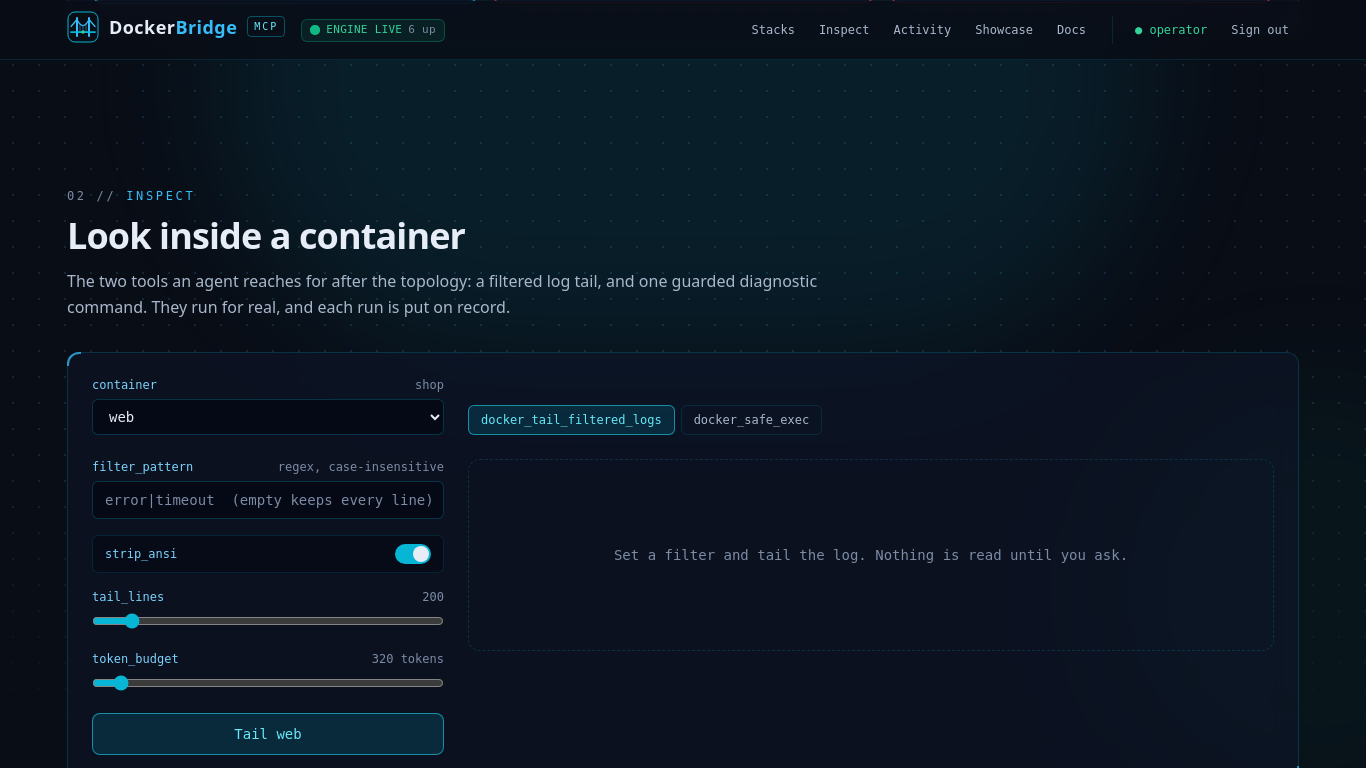
Scenario: running a command › shows the policy's refusal, with the rule that applied
The image size is (1366, 768).
(page scrolled)
Check: the dropdown labelled "container shop" is shown, box left=92, top=399, right=444, bottom=435
Click the tab "docker_safe_exec" at (751, 420), box left=681, top=405, right=822, bottom=435
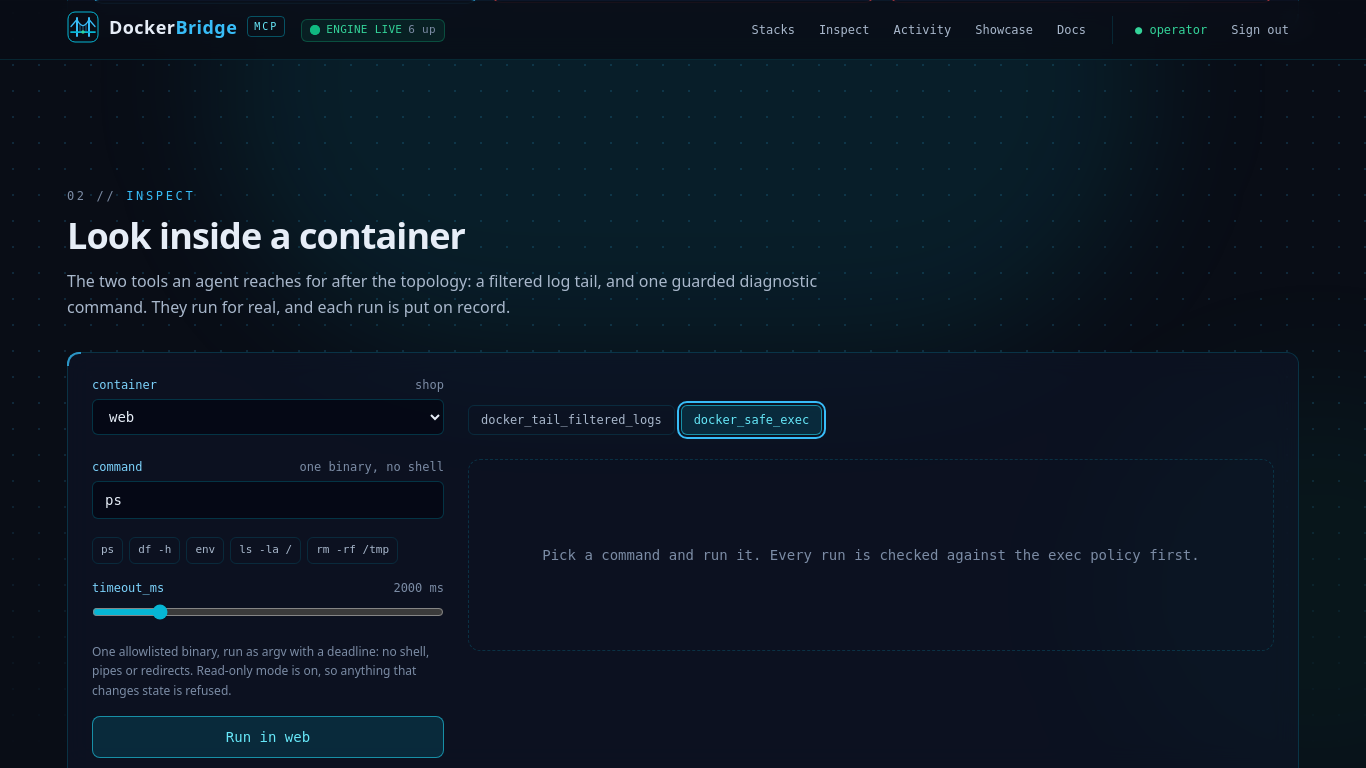
Click the button "rm -rf /tmp" at (353, 550), box left=307, top=537, right=398, bottom=564
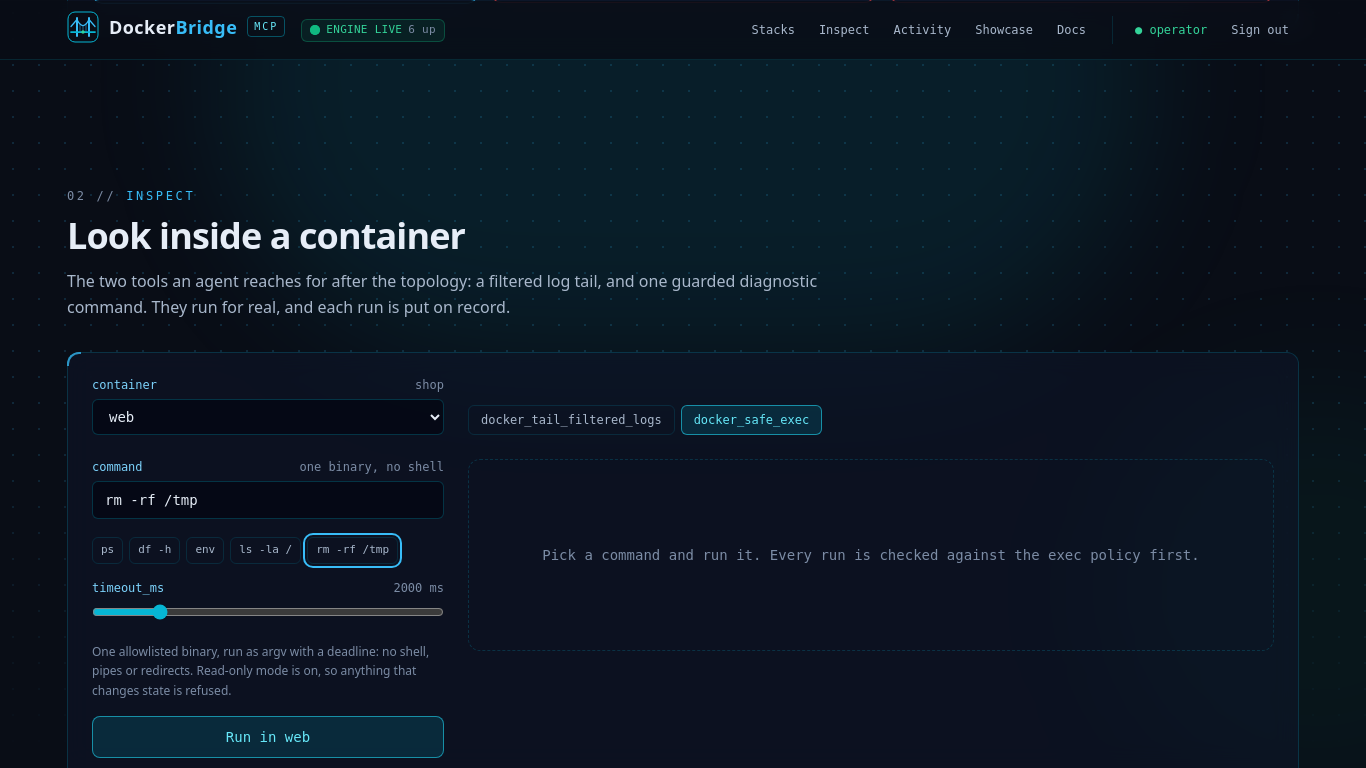
Check: the field labelled "command one binary, no shell" holds "rm -rf /tmp", box left=92, top=481, right=444, bottom=519
Click the button "Run in web" at (268, 737), box left=92, top=716, right=444, bottom=758
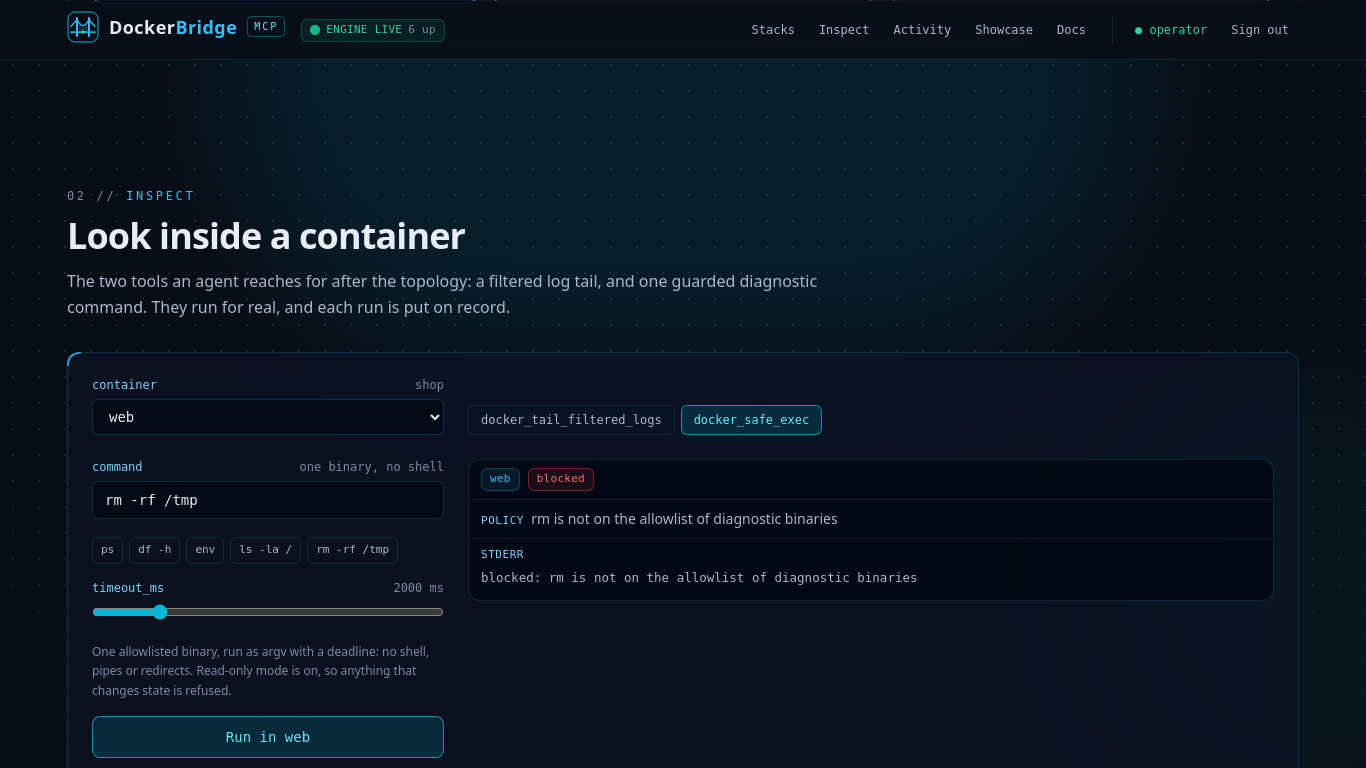
Check: the text "blocked" is shown, box left=528, top=468, right=594, bottom=490
Check: the element with test id "guardrail" shows "rm is not on the allowlist of diagnostic binaries", box left=531, top=508, right=838, bottom=528
